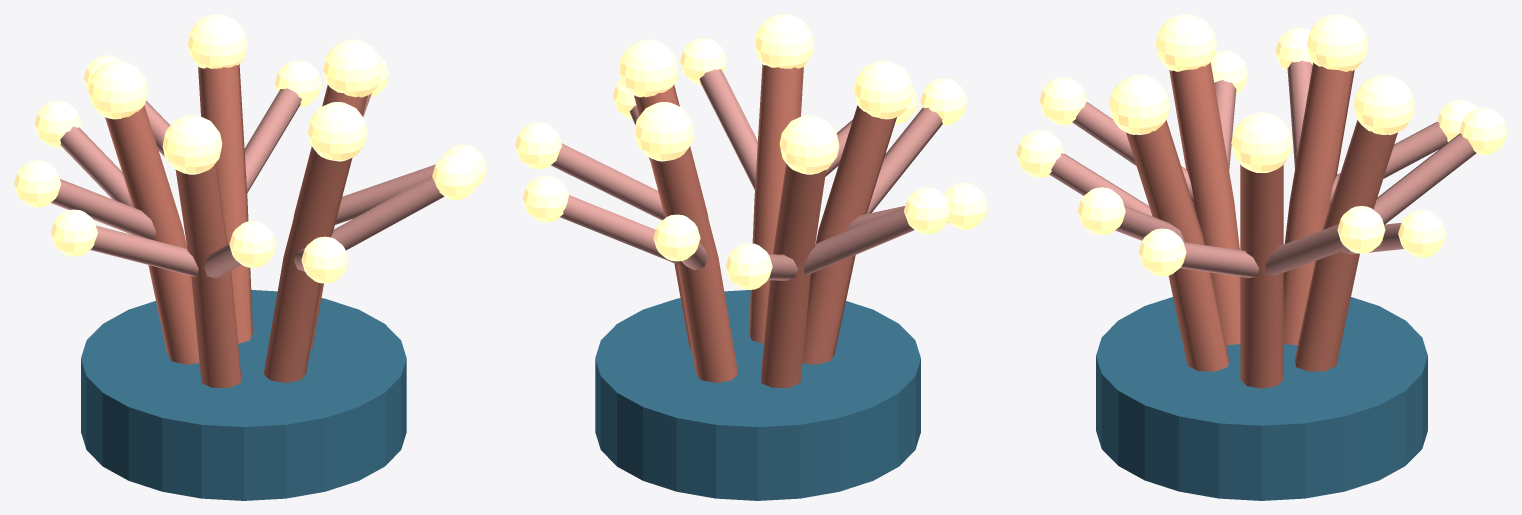
Rendered from palau-coral-lamp.glb.
3 renders of one model, left to right at view 1: azimuth 30°, elevation 25°; view 2: azimuth 150°, elevation 25°; view 3: azimuth 270°, elevation 25°, orthographic.
Visible parts, largest first — view 1: さんごの いわ, さんごの おやえだ.004, さんごの おやえだ.002, さんごの おやえだ.003, さんごの おやえだ.001, さんごの こえだ.009, ひかる さき.003, ひかる さき.004, ひかる さき.002, ひかる さき, さんごの こえだ.006, ひかる さき.001 (+15 smaller); view 2: さんごの いわ, さんごの おやえだ.003, さんごの おやえだ.001, さんごの おやえだ.002, さんごの おやえだ.004, さんごの こえだ.001, さんごの こえだ.005, ひかる さき.002, ひかる さき.001, ひかる さき.003, ひかる さき, さんごの こえだ.009 (+14 smaller); view 3: さんごの いわ, さんごの おやえだ.003, さんごの おやえだ.002, さんごの おやえだ.004, さんごの おやえだ.001, さんごの おやえだ, さんごの こえだ.003, ひかる さき, ひかる さき.001, ひかる さき.004, ひかる さき.002, ひかる さき.003 (+19 smaller).
Boxes of the visible parts, x1,y1,x2,y2 form: さんごの いわ: (81,290,406,500); さんごの おやえだ.004: (263,147,352,382); さんごの おやえだ.002: (105,105,199,364); さんごの おやえだ.003: (175,164,241,387); さんごの おやえだ.001: (198,64,252,343); さんごの こえだ.009: (331,176,444,250); ひかる さき.003: (162,115,222,174); ひかる さき.004: (308,102,367,161); ひかる さき.002: (88,60,147,119); ひかる さき: (323,39,382,97); さんごの こえだ.006: (90,225,198,276); ひかる さき.001: (187,14,247,68); さんごの いわ: (595,290,920,500); さんごの おやえだ.003: (802,105,896,364); さんごの おやえだ.001: (649,147,738,382); さんごの おやえだ.002: (760,164,826,387); さんごの おやえだ.004: (749,64,803,343); さんごの こえだ.001: (551,143,664,220); さんごの こえだ.005: (804,206,914,274); ひかる さき.002: (779,115,839,174); ひかる さき.001: (634,102,693,161); ひかる さき.003: (854,60,913,119); ひかる さき: (619,39,678,97); さんごの こえだ.009: (699,69,757,190); さんごの いわ: (1096,297,1427,500); さんごの おやえだ.003: (1169,62,1240,345); さんごの おやえだ.002: (1283,62,1354,345); さんごの おやえだ.004: (1126,120,1229,371); さんごの おやえだ.001: (1294,120,1397,371); さんごの おやえだ: (1240,164,1283,388); さんごの こえだ.003: (1373,133,1476,224); ひかる さき: (1231,112,1292,172); ひかる さき.001: (1353,74,1414,134); ひかる さき.004: (1109,74,1170,134); ひかる さき.002: (1307,14,1368,71); ひかる さき.003: (1155,14,1216,71).
Bounding box in the file's own units: 1.13 × 0.984 × 1.18.
